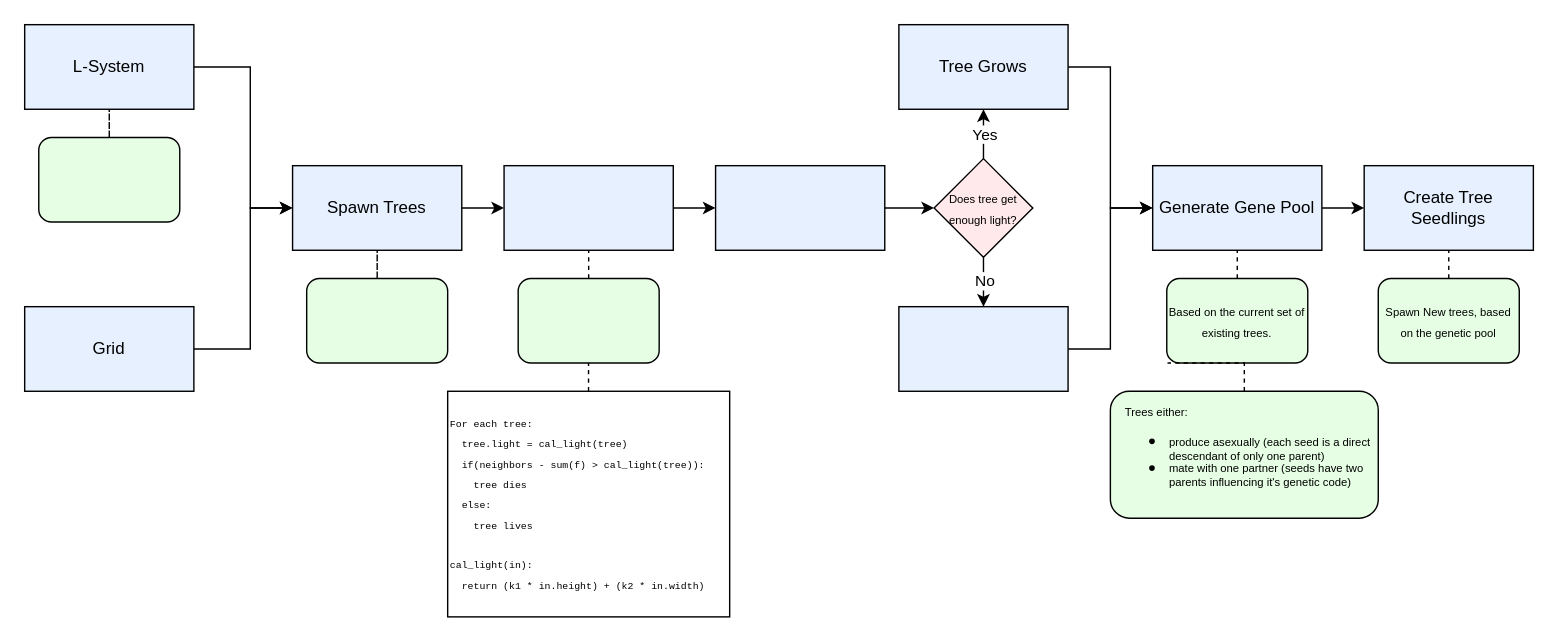
The diagram is 1558 pixels wide and 642 high, and some of its shapes have lost their labels. Each missing label, with the centre of its shape:
Attributes: Angle (phi1, phi2), ratios (r1, r2), etc...: the point at 108,179
For each tree, get it's light absorption.: the point at 588,320
Measure Light: the point at 588,207
Render iter. in blender: the point at 376,320
Tree Dies: the point at 982,348
Tree Iteration: the point at 799,207
